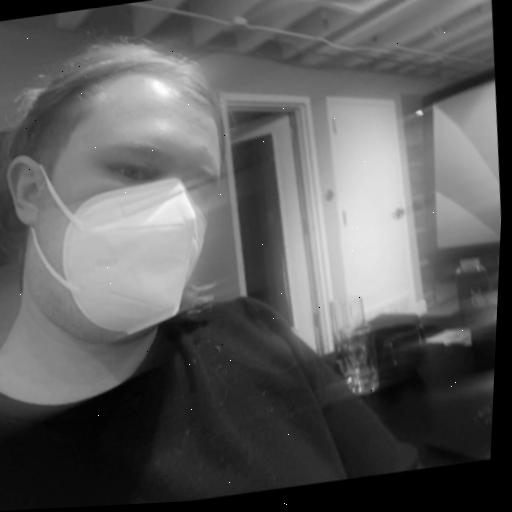mask: (0, 22, 286, 421)
